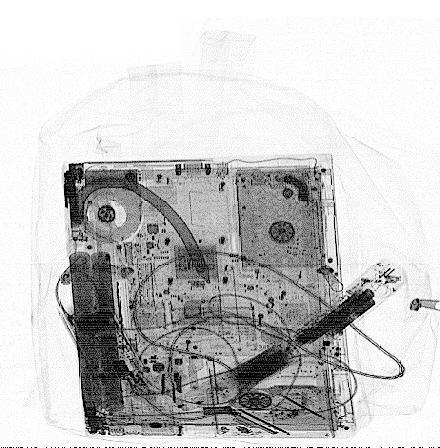Baton: (203, 259, 407, 407)
